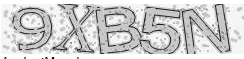5: (140, 6, 181, 55)
9: (11, 6, 53, 52)
B: (95, 6, 143, 54)
N: (181, 4, 231, 57)
X: (52, 3, 98, 53)
